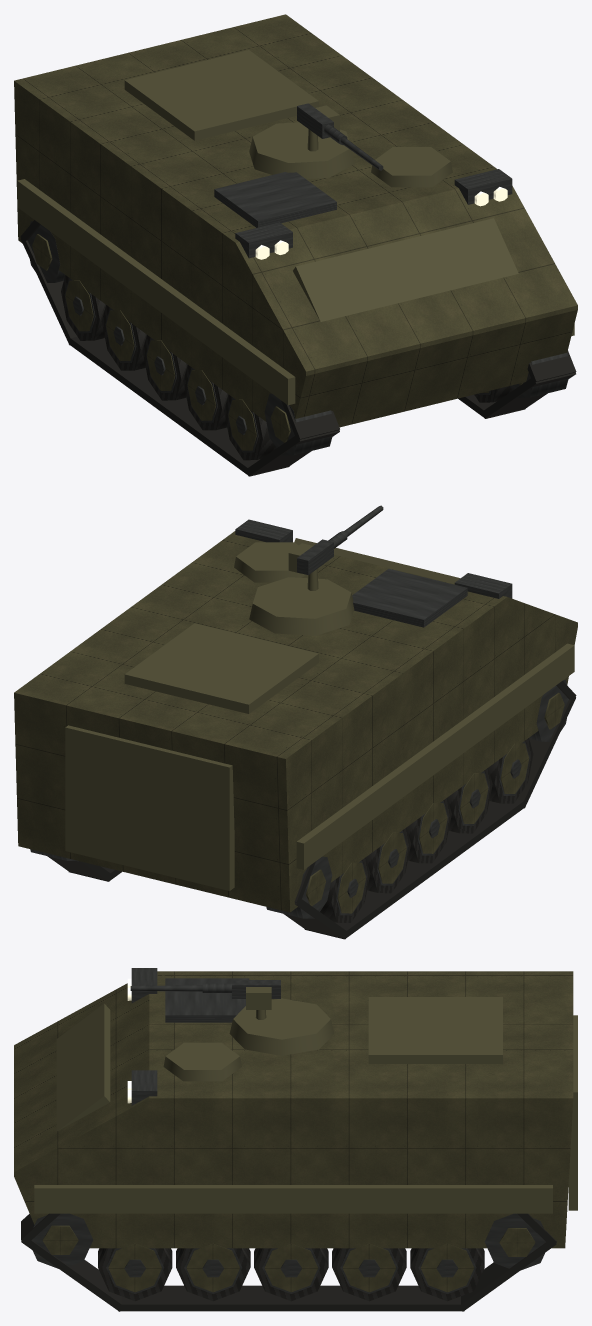
The model's file is m113_apc_lod2.glb.
3 views of the same model, one above another, from view 1: azimuth 30°, elevation 25°; view 2: azimuth 150°, elevation 25°; view 3: azimuth 270°, elevation 25° (orthographic). The views are drawn at different scales.
Parts seen in each view (by area): view 1: M113_APC; view 2: M113_APC; view 3: M113_APC.
Boxes of the visible parts, <box> form: M113_APC: <box>14,14,577,476</box>; M113_APC: <box>14,505,577,939</box>; M113_APC: <box>14,968,577,1311</box>.
Size of the model in its own units: 2.72 by 2.51 by 4.84.
Materials: 6 (3 with a texture image).
